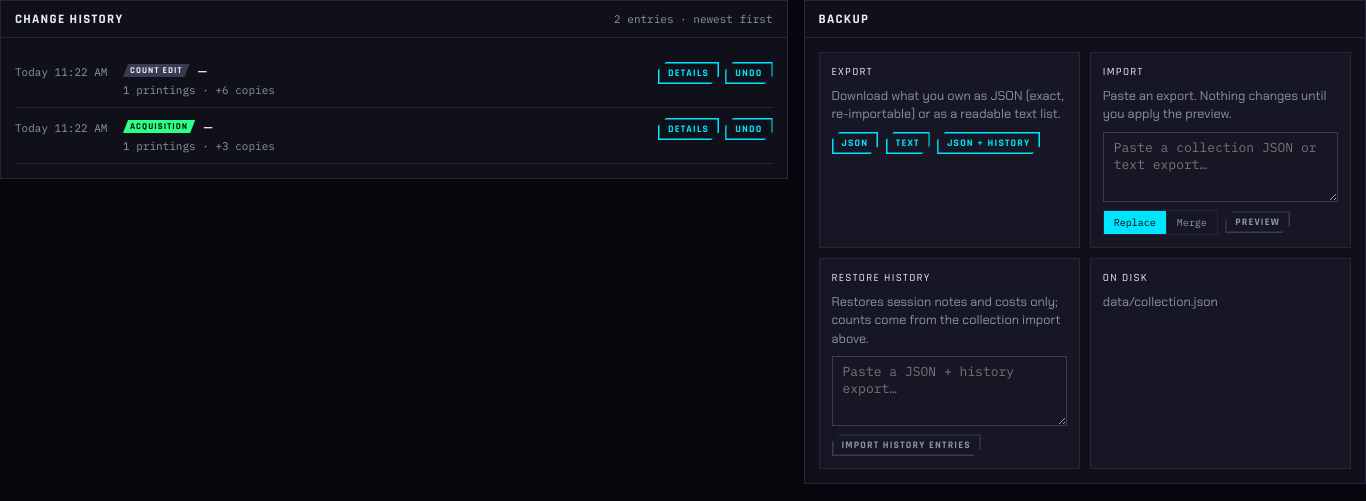
timeline › shows a refusal when the rows moved since the entry
Click the button with test id "history-undo" in the row of "Acquisition". click: [749, 129]
box: [725,118,772,140]
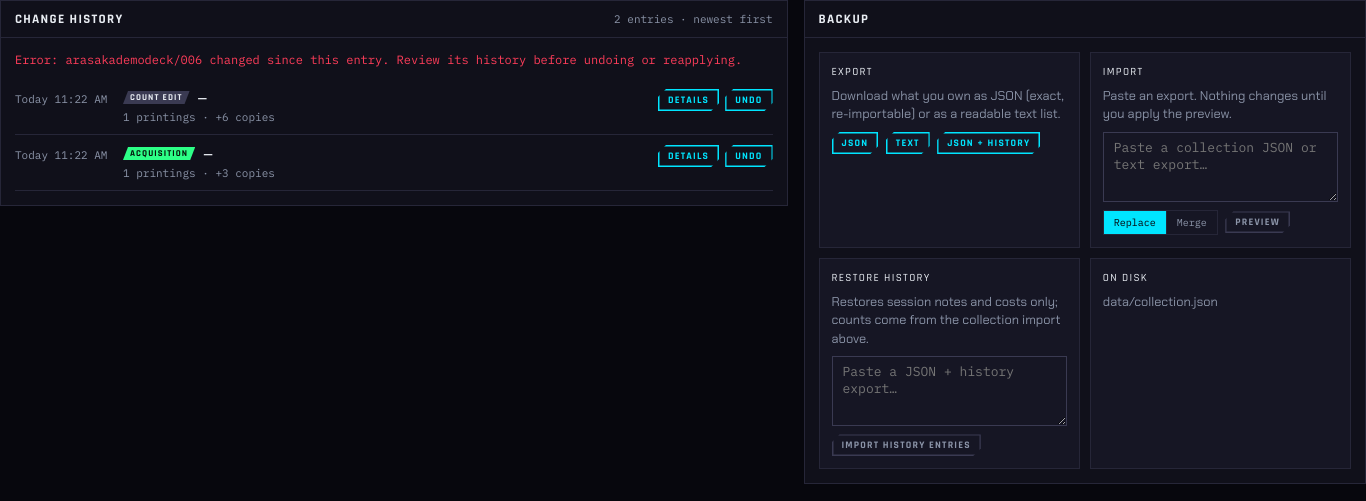
Now the message with test id "history-error" shows "changed since", box [15,52,742,67]
